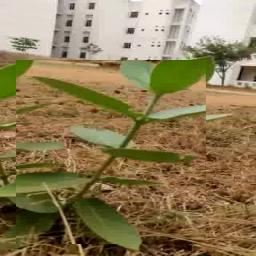CALOTROPIS: (17, 60, 207, 245)
